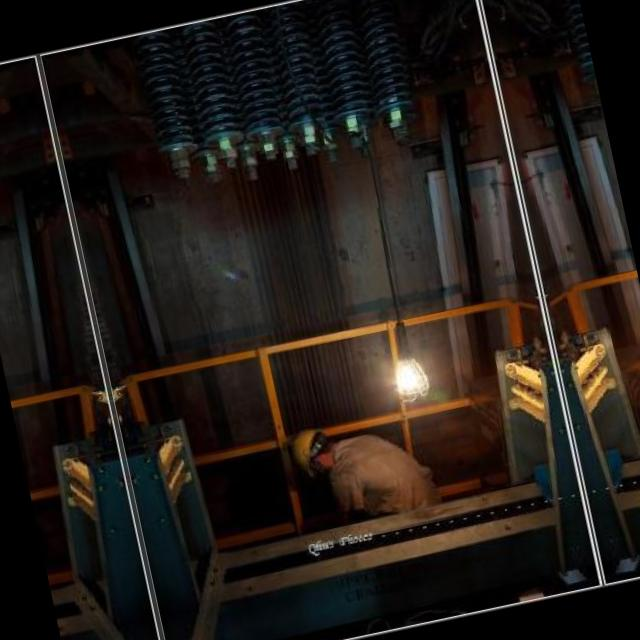helmet: (290, 422, 338, 472)
